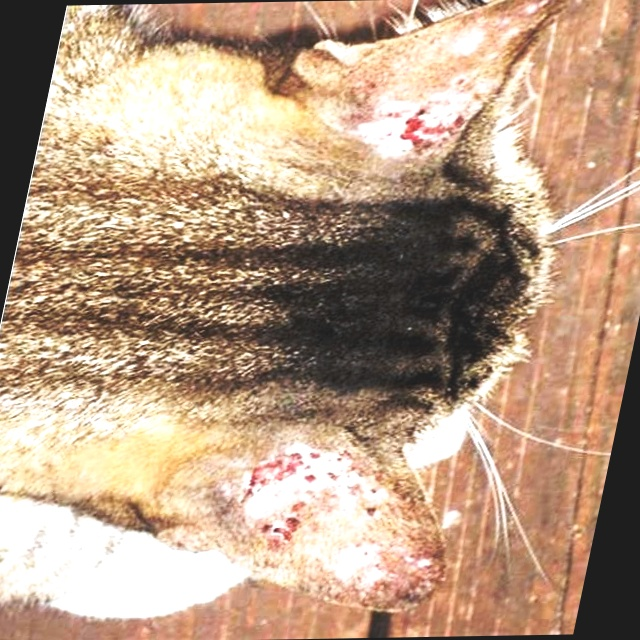ringworm: (225, 430, 418, 553), (367, 37, 515, 161)
